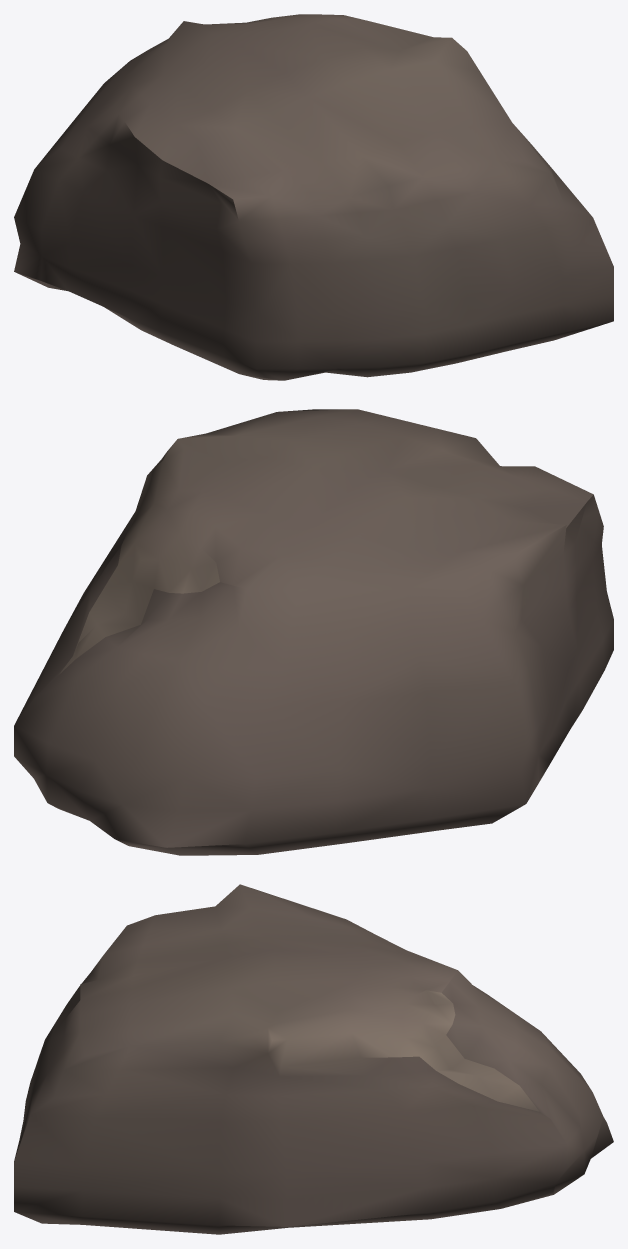
3 views of the same model, one above another, from view 1: azimuth 30°, elevation 25°; view 2: azimuth 150°, elevation 25°; view 3: azimuth 270°, elevation 25° (orthographic). The views are drawn at different scales.
Visible parts, largest first — view 1: SharpRock.002; view 2: SharpRock.002; view 3: SharpRock.002.
Boxes of the visible parts, bbox=[...] form: SharpRock.002: bbox=[14, 14, 613, 380]; SharpRock.002: bbox=[14, 409, 613, 855]; SharpRock.002: bbox=[14, 884, 613, 1234].
Size of the model in its own units: 0.3833 by 0.189 by 0.5.
